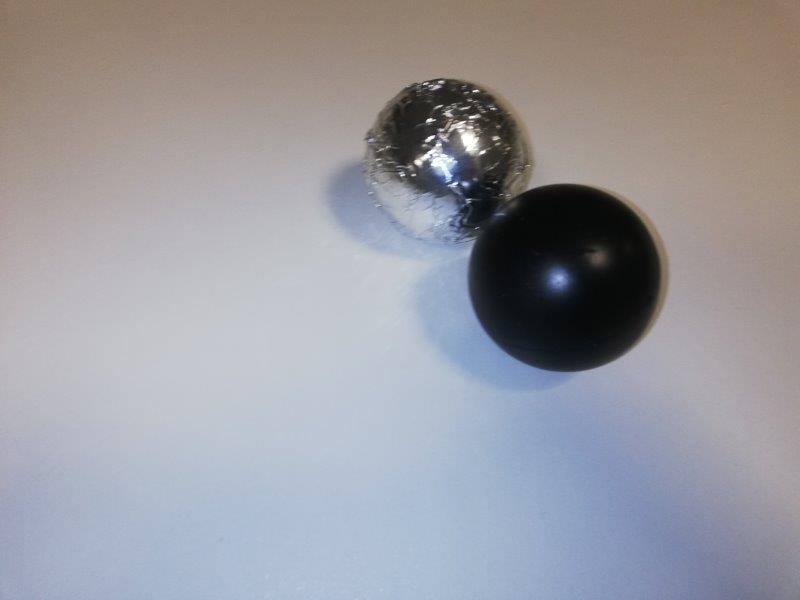bianca: (365, 75, 532, 245)
nera: (472, 182, 662, 371)
